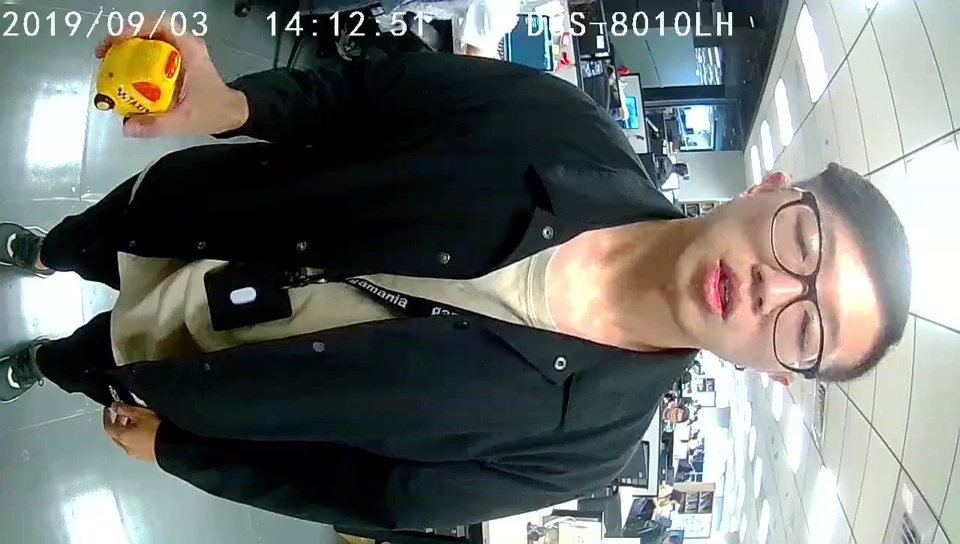car: (99, 37, 181, 114)
